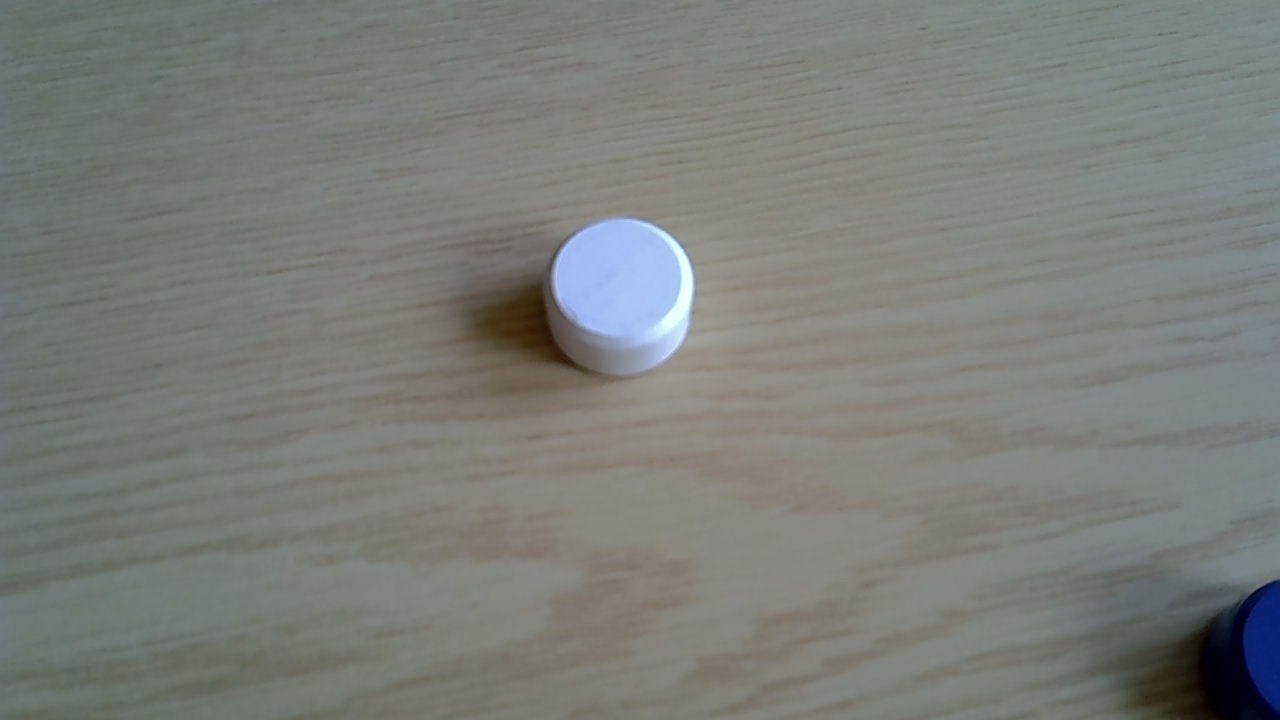WerkStueck: (539, 216, 695, 379)
